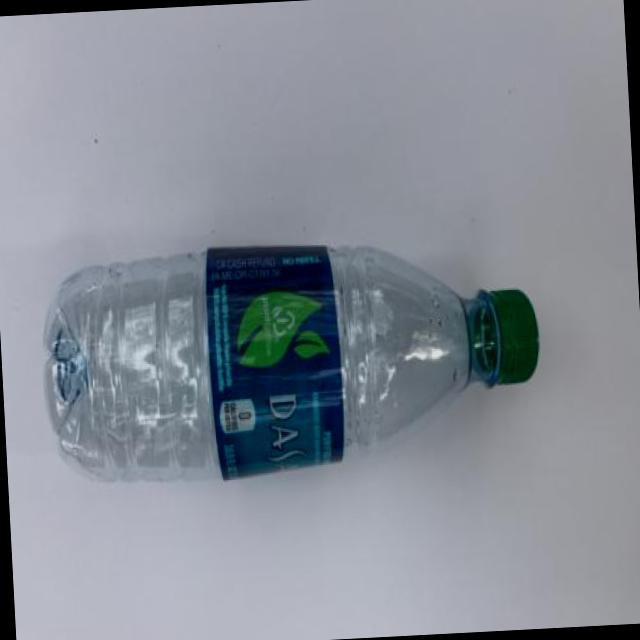Trash: (36, 228, 544, 493)
